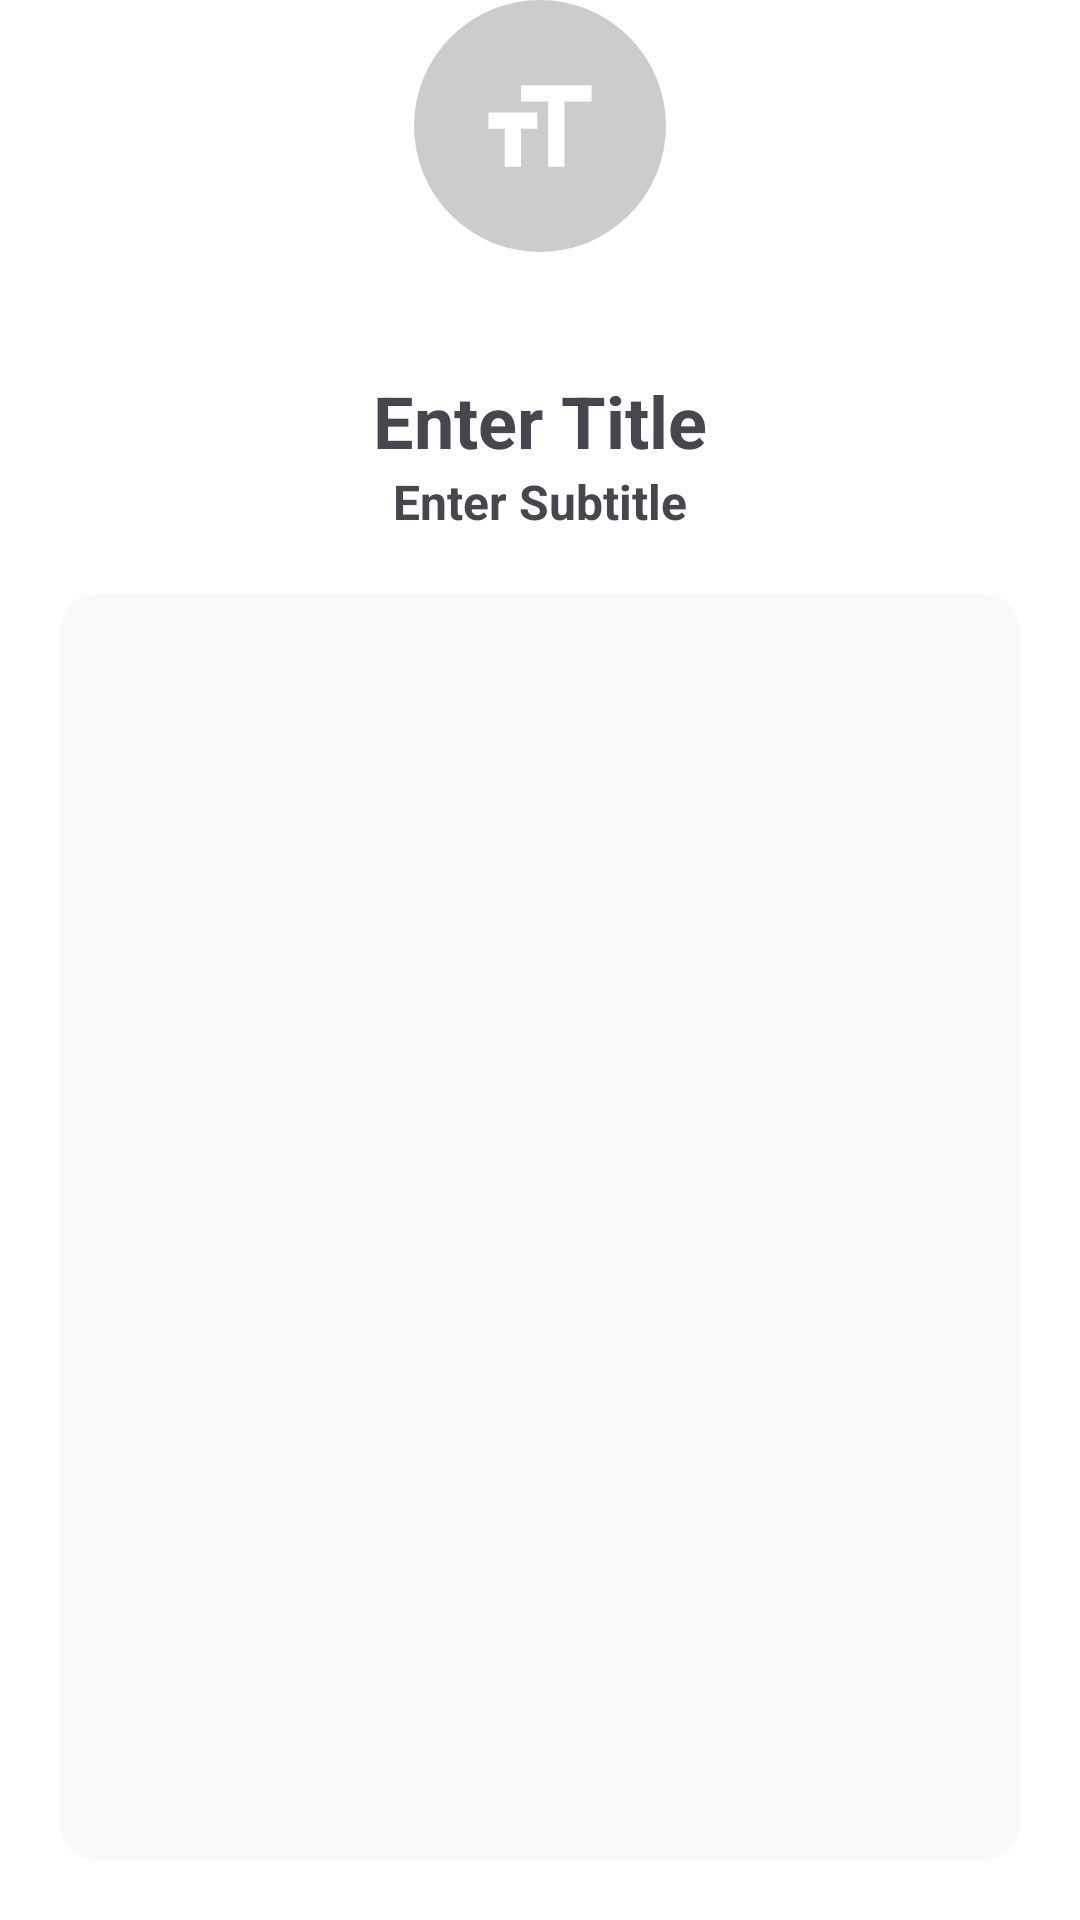

Where icons sit on this 1080 × 1920 app screen, as box(x1, y1, x2, y2):
text: box(414, 0, 666, 252)
